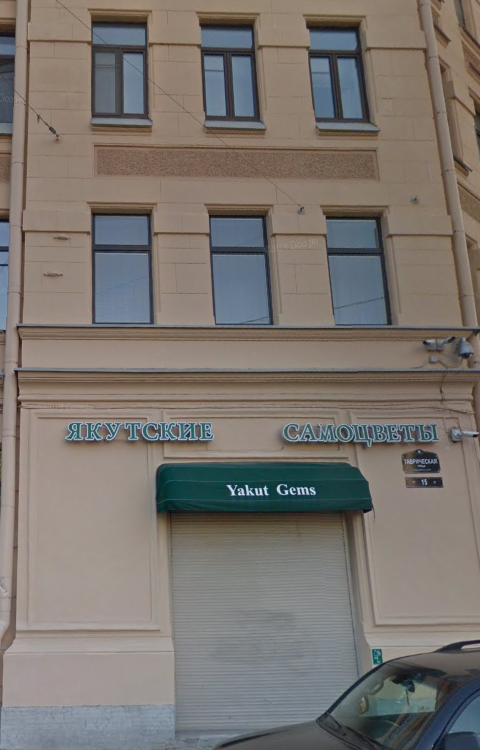signboard: (58, 416, 215, 449), (275, 418, 441, 447)
window: (92, 206, 154, 323), (325, 216, 385, 331), (211, 217, 266, 329), (306, 22, 365, 122), (200, 21, 257, 123), (93, 24, 145, 116)
